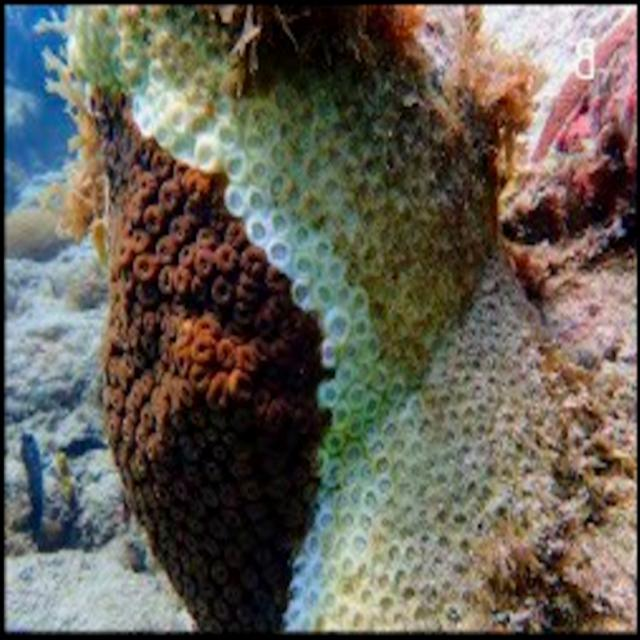Coral: (65, 4, 638, 632)
